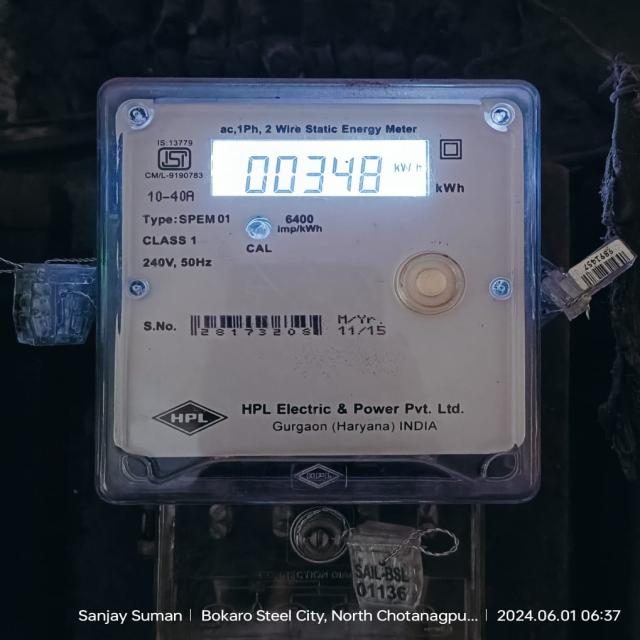display: (208, 136, 432, 202)
